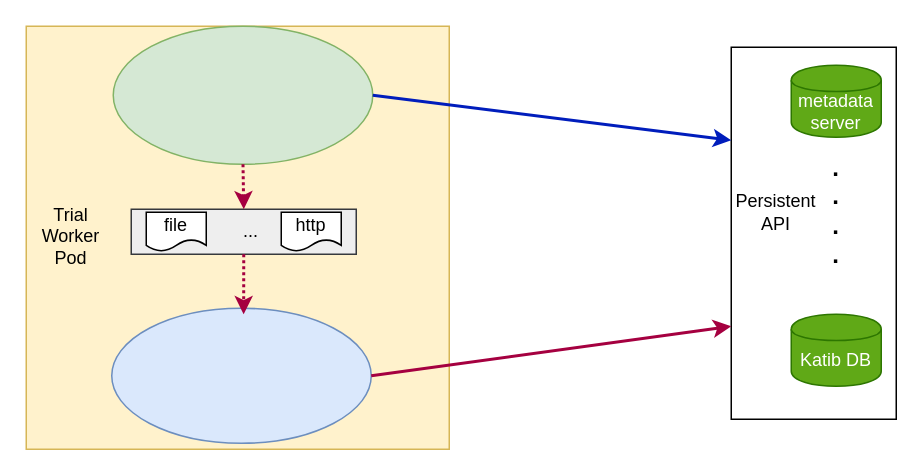
The diagram is 923 pixels wide and 476 high, and some of its shapes have lost their labels. Here are the shapes that lost their labels. From the top down, the centre of each, then its label:
At point 242,94: "Trial Worker Container".
At point 240,375: "Metrics Collector Container".
